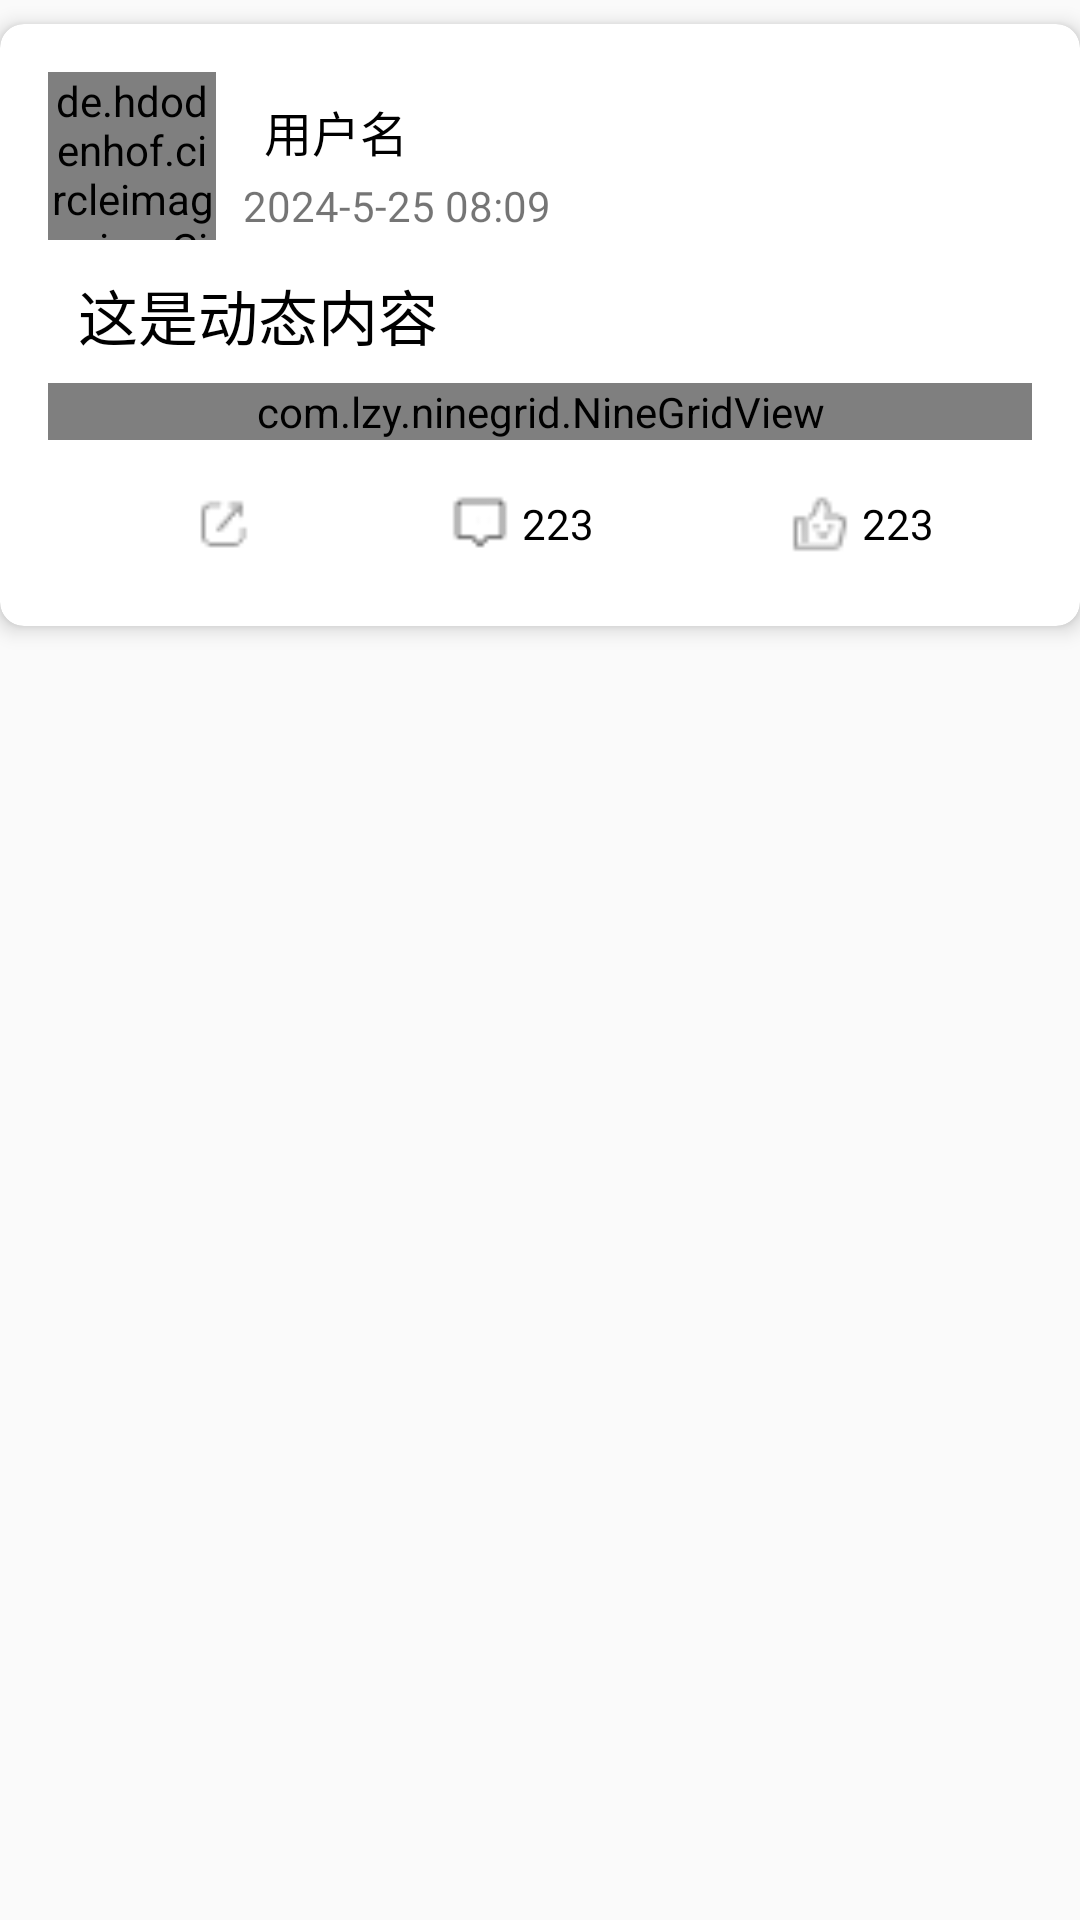

Where to tap for icons on this 1080 x 1920 app screen, as (x=x, y=y):
comment: (x=480, y=522)
praise: (x=820, y=524)
share: (x=224, y=524)
